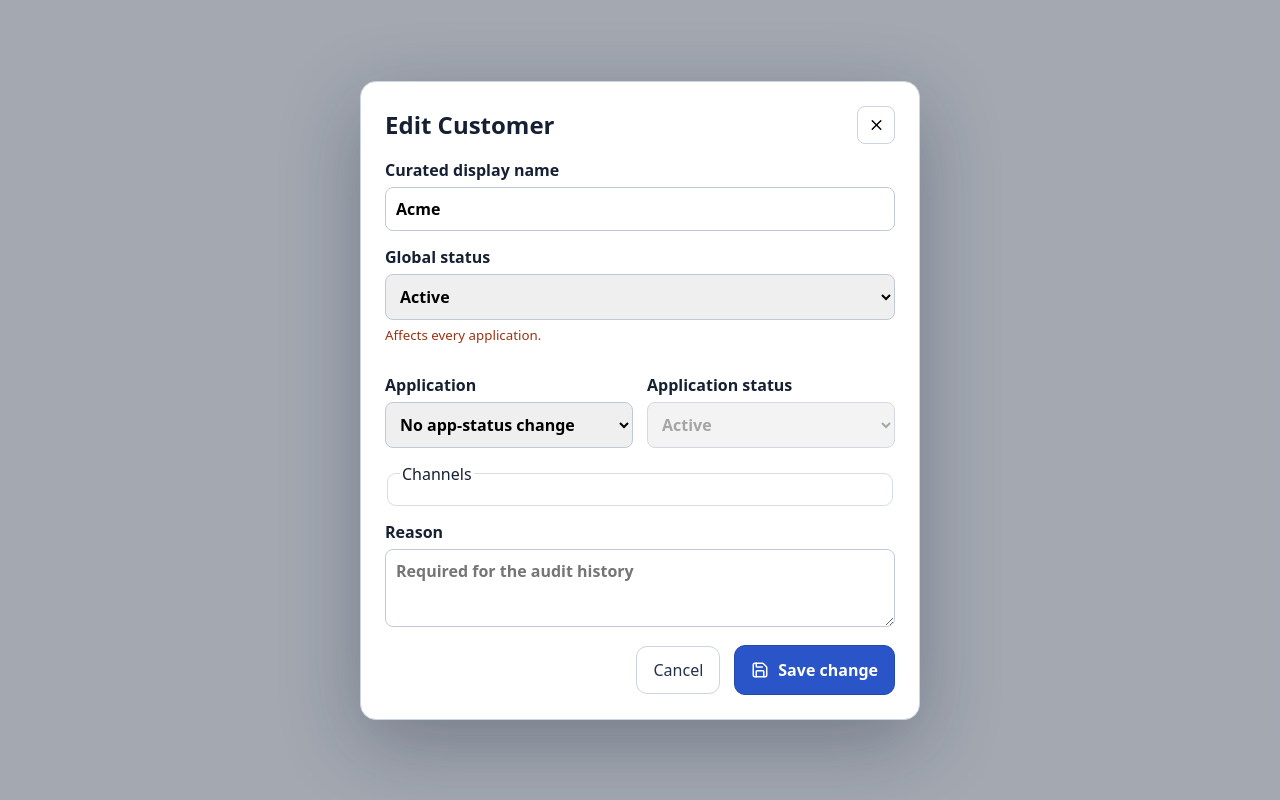
Test: RecordEditor › reflects an application’s current status instead of silently defaulting to Active
Expected: the dropdown labelled "Application status" shows "Active", [647, 402, 895, 448]
Select "PM/PIM" in the dropdown labelled "Application": x=509, y=424 [385, 402, 633, 448]
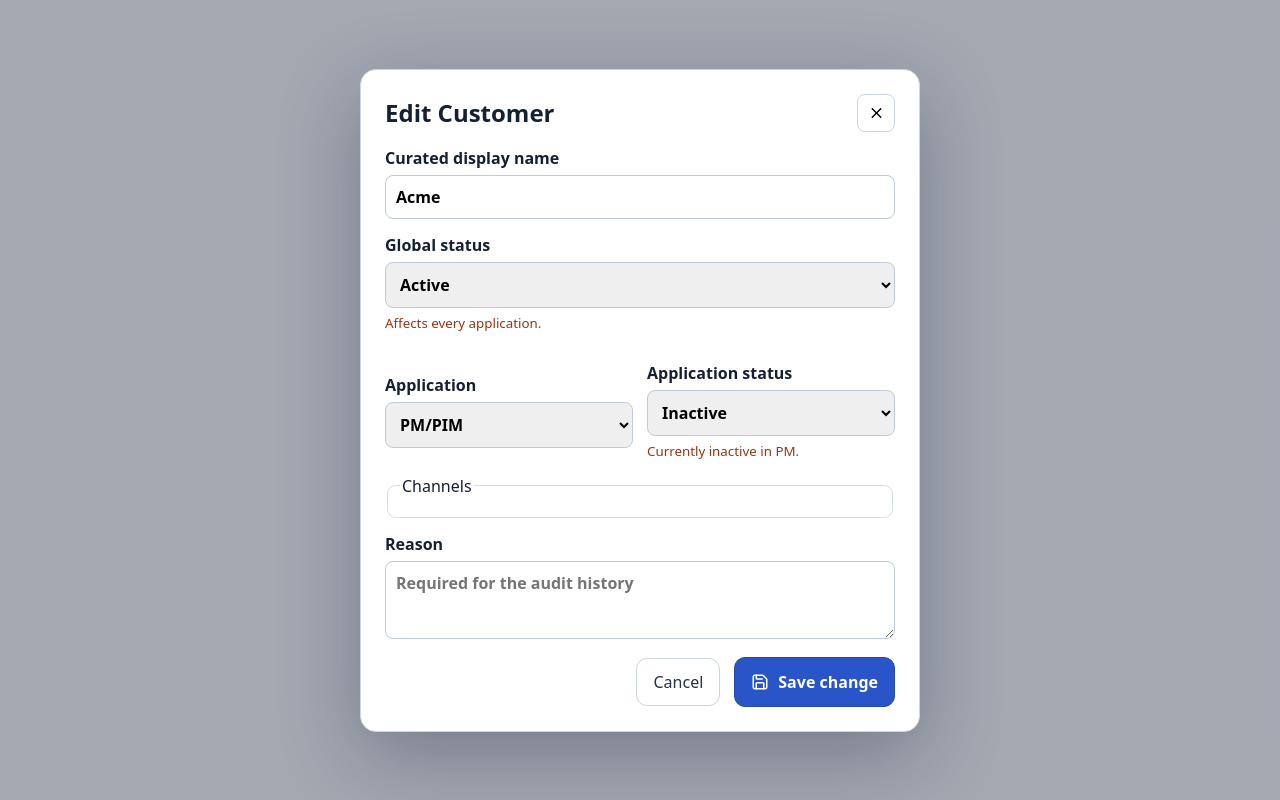
Result: the dropdown labelled "Application status" shows "Inactive" at [647, 390, 895, 436]
Result: the text "Currently inactive in PM." is shown at [647, 442, 799, 460]
